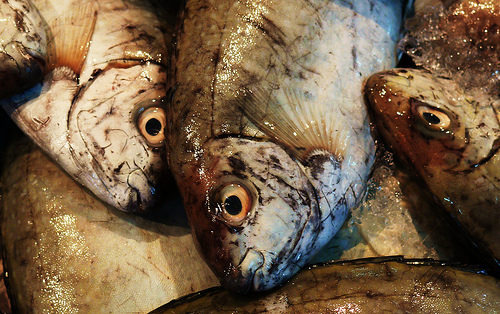fish: (164, 0, 403, 297), (0, 0, 175, 216), (362, 55, 499, 266), (146, 255, 499, 313), (1, 0, 58, 91)
